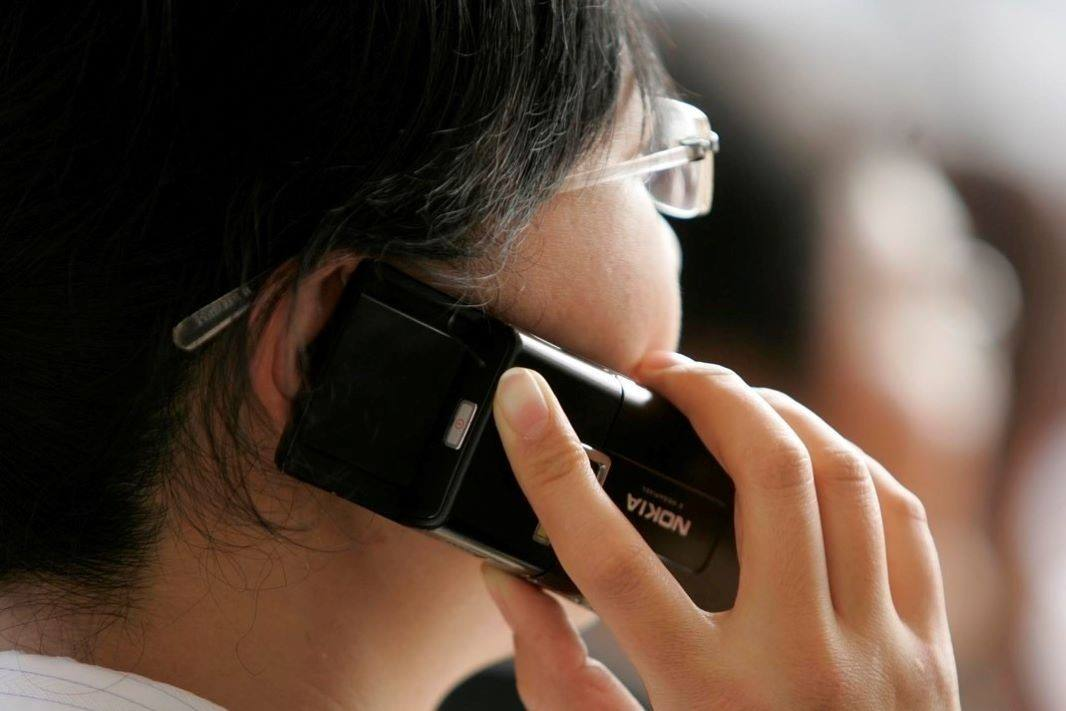calling: (262, 251, 966, 706)
